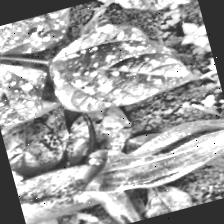Bean Rust: (38, 10, 194, 122), (0, 6, 80, 61), (0, 56, 53, 137)
